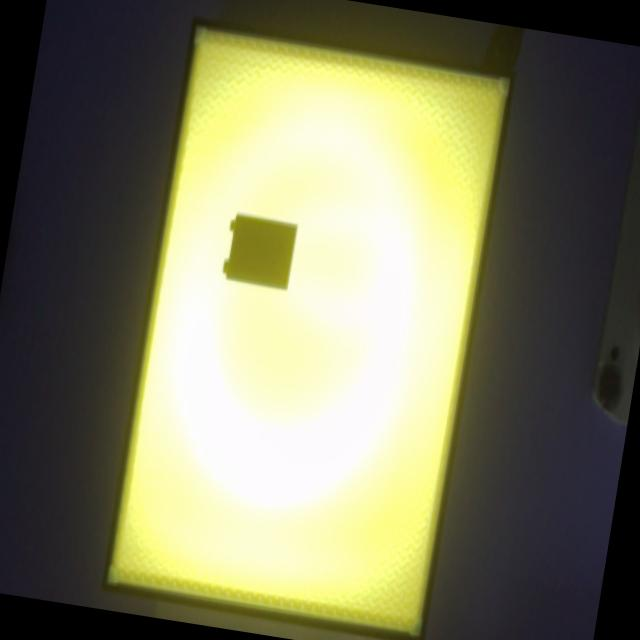bateria: (222, 211, 298, 291)
mesa: (101, 16, 517, 640)
